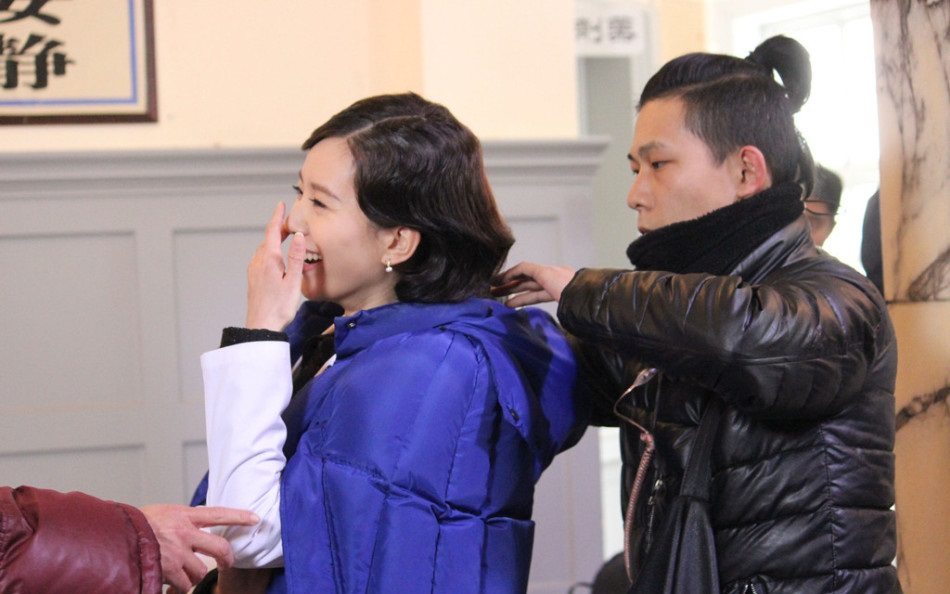face: (287, 137, 384, 305), (623, 109, 707, 244)
